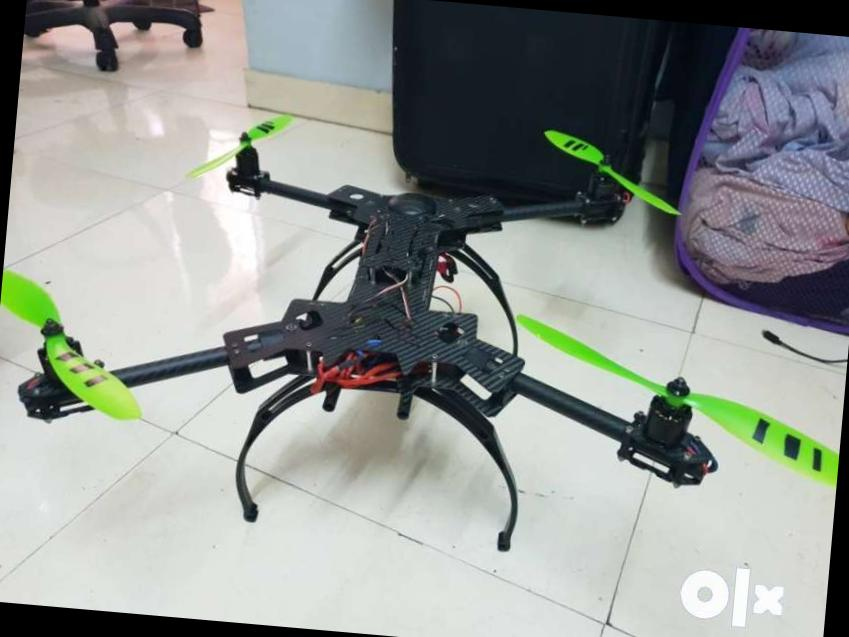drone: (0, 87, 849, 540)
